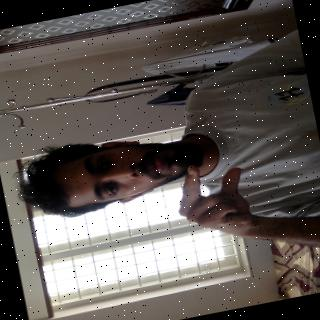No: (142, 127, 313, 267)
